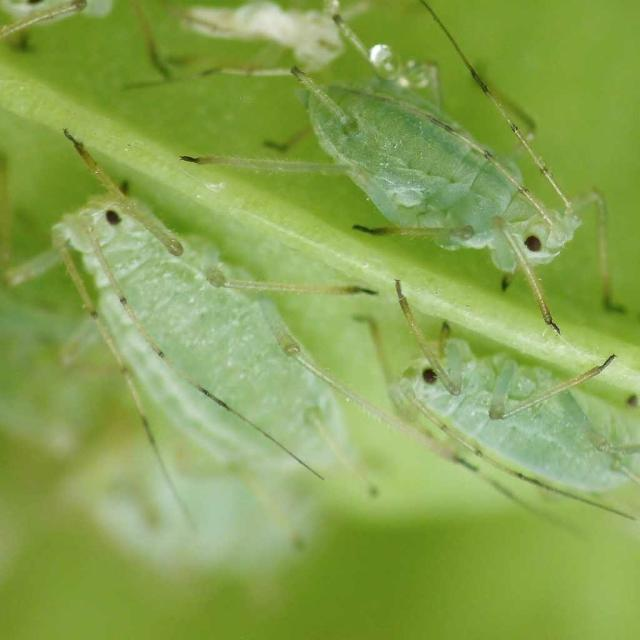aphid: (18, 168, 394, 542), (263, 46, 616, 324), (363, 332, 640, 568)
